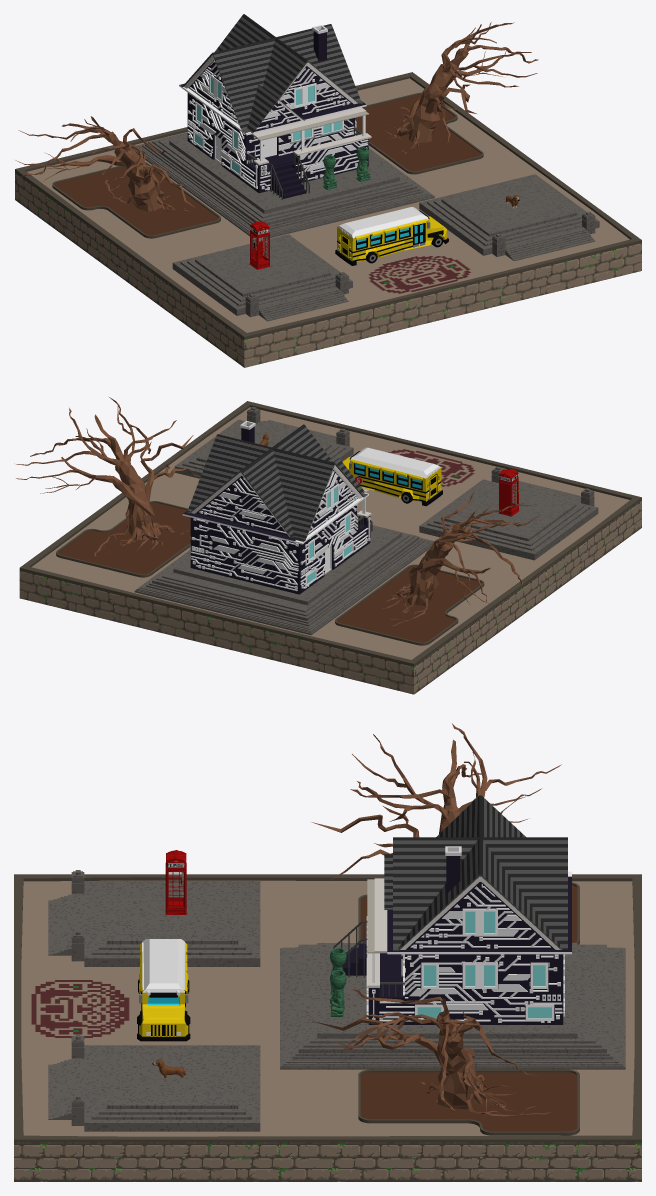
3 views of the same model, one above another, from view 1: azimuth 30°, elevation 25°; view 2: azimuth 150°, elevation 25°; view 3: azimuth 270°, elevation 25° (orthographic). The views are drawn at different scales.
Visible parts, largest first — view 1: Cube.011, Cube.918, VEHICLES_SCHOOL_BUS, OBJRANDOM_PHONEBOOTH; view 2: Cube.011, Cube.918, VEHICLES_SCHOOL_BUS, OBJRANDOM_PHONEBOOTH; view 3: Cube.011, Cube.918, VEHICLES_SCHOOL_BUS, OBJRANDOM_PHONEBOOTH.
Part boxes in pixels (left/top/right/bottom): Cube.011: left=15, top=22, right=641, bottom=367; Cube.918: left=179, top=14, right=371, bottom=199; VEHICLES_SCHOOL_BUS: left=335, top=207, right=448, bottom=265; OBJRANDOM_PHONEBOOTH: left=249, top=221, right=270, bottom=269; Cube.011: left=14, top=397, right=641, bottom=694; Cube.918: left=182, top=421, right=372, bottom=594; VEHICLES_SCHOOL_BUS: left=342, top=447, right=442, bottom=506; OBJRANDOM_PHONEBOOTH: left=498, top=468, right=519, bottom=516; Cube.011: left=14, top=723, right=641, bottom=1181; Cube.918: left=333, top=795, right=571, bottom=1024; VEHICLES_SCHOOL_BUS: left=137, top=939, right=190, bottom=1041; OBJRANDOM_PHONEBOOTH: left=165, top=850, right=186, bottom=914.
Size of the model in its own units: 5099 by 1638 by 4000.
Materials: 47 (5 with a texture image).
